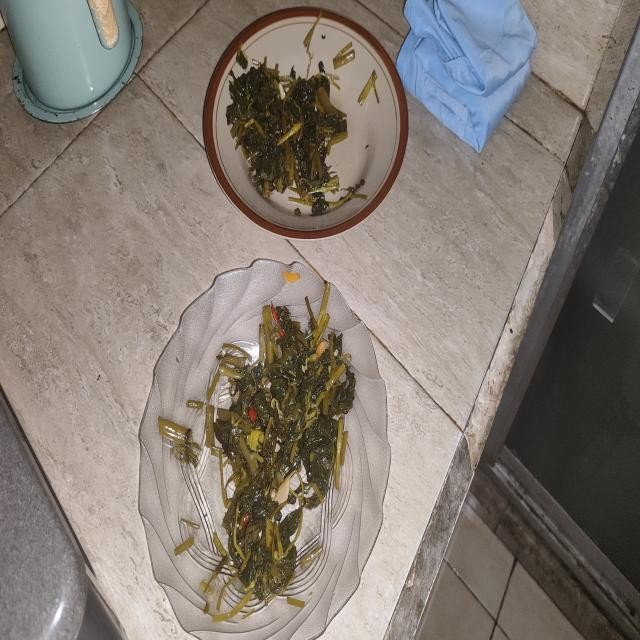tumis_kangkung: (202, 283, 360, 618), (226, 58, 347, 215)
